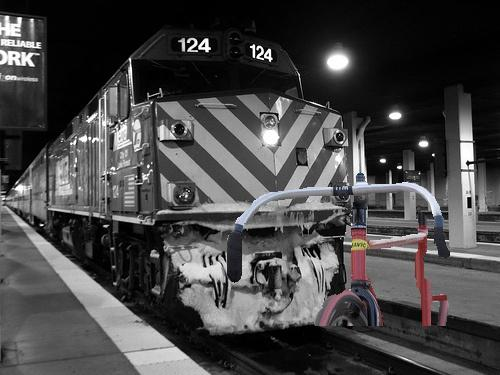tampered: (228, 173, 450, 326)
